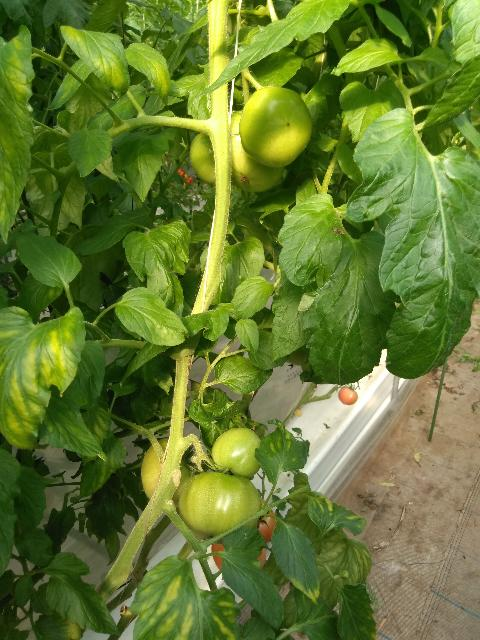b_green: (179, 471, 262, 545), (239, 86, 313, 167), (229, 110, 284, 192), (141, 437, 195, 507), (211, 427, 264, 478), (190, 132, 216, 185)
b_half_ripened: (257, 498, 276, 542), (339, 386, 358, 405)
